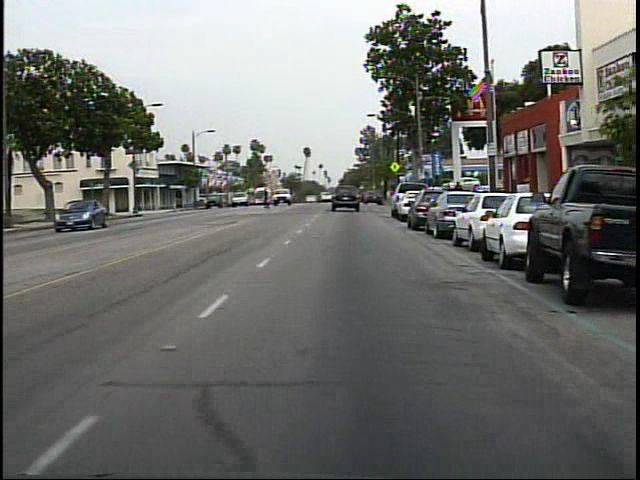person: (449, 177, 469, 219), (261, 185, 275, 215)
